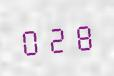eight: (69, 19, 93, 52)
two: (44, 21, 68, 54)
zero: (18, 23, 42, 57)
